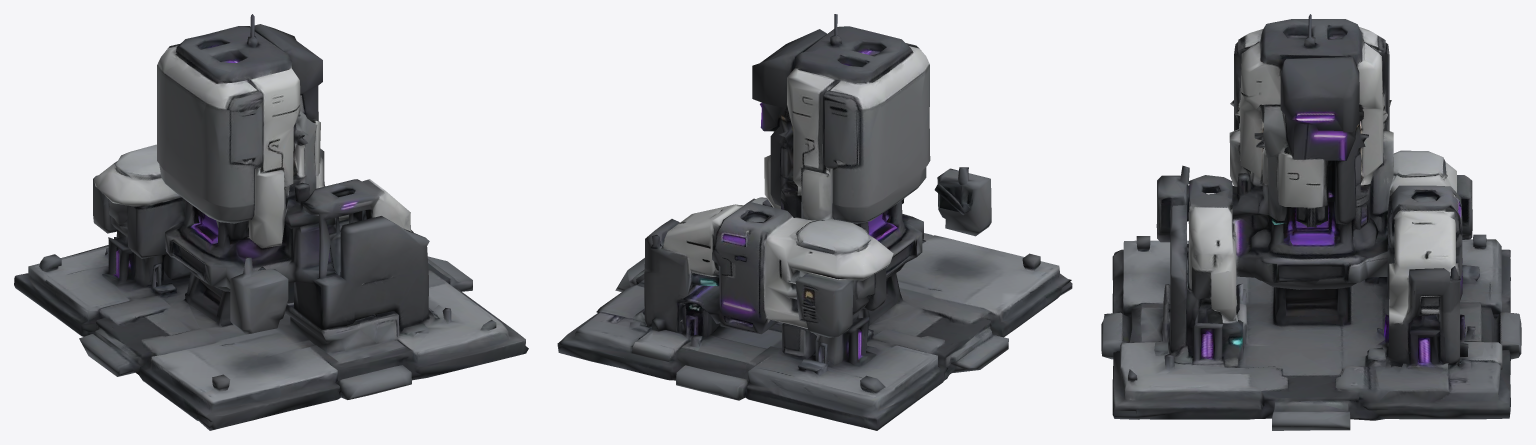
File: foundry.glb
3 views of the same model, side by side, from view 1: azimuth 30°, elevation 25°; view 2: azimuth 150°, elevation 25°; view 3: azimuth 270°, elevation 25° (orthographic).
Parts seen in each view (by area): view 1: tripo_node_669535f0-63e3-4964-acdb-3d882c869f23; view 2: tripo_node_669535f0-63e3-4964-acdb-3d882c869f23; view 3: tripo_node_669535f0-63e3-4964-acdb-3d882c869f23.
Part boxes in pixels (bbox=[...]): tripo_node_669535f0-63e3-4964-acdb-3d882c869f23: bbox=[14, 14, 528, 430]; tripo_node_669535f0-63e3-4964-acdb-3d882c869f23: bbox=[557, 14, 1072, 430]; tripo_node_669535f0-63e3-4964-acdb-3d882c869f23: bbox=[1101, 14, 1521, 430].
Size of the model in its own units: 0.9939 by 0.8315 by 1.
1 material, 1 textured.
